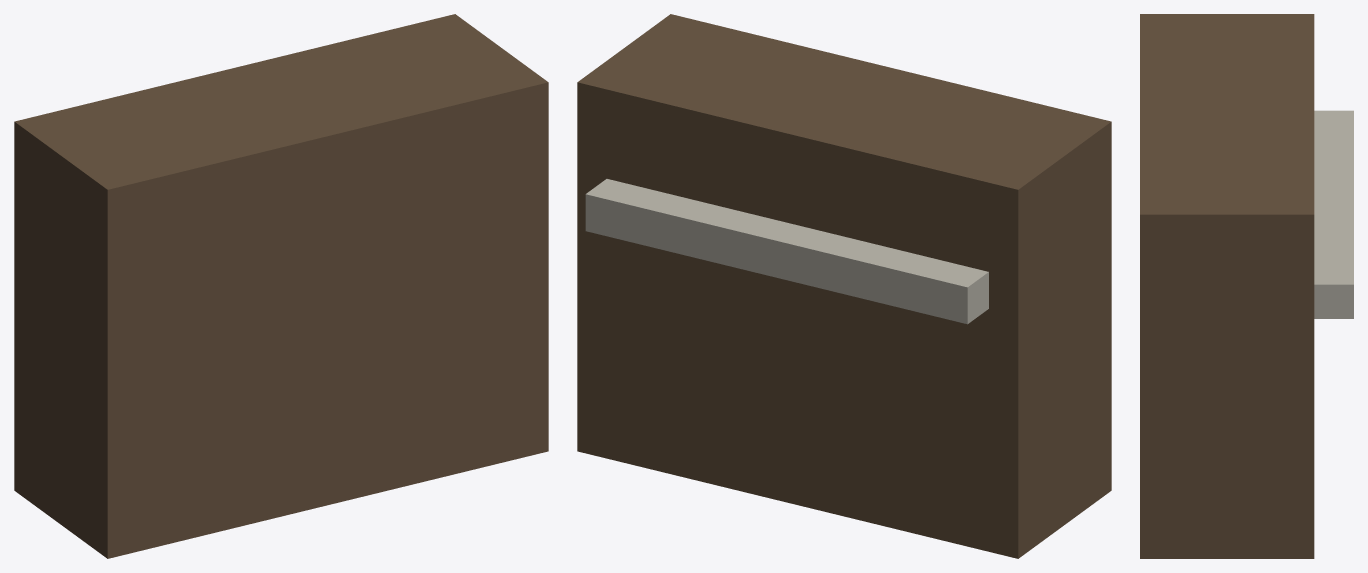
Rendered from p_piano.glb.
3 renders of one model, left to right at view 1: azimuth 30°, elevation 25°; view 2: azimuth 150°, elevation 25°; view 3: azimuth 270°, elevation 25°, orthographic. The views are drawn at different scales.
Parts seen in each view (by area): view 1: body; view 2: body; view 3: body.
Boxes of the visible parts, left/top/right/bottom form: body: left=14, top=14, right=548, bottom=558; body: left=577, top=14, right=1111, bottom=558; body: left=1140, top=14, right=1353, bottom=558.
Size of the model in its own units: 1.5 by 1.2 by 0.675.
